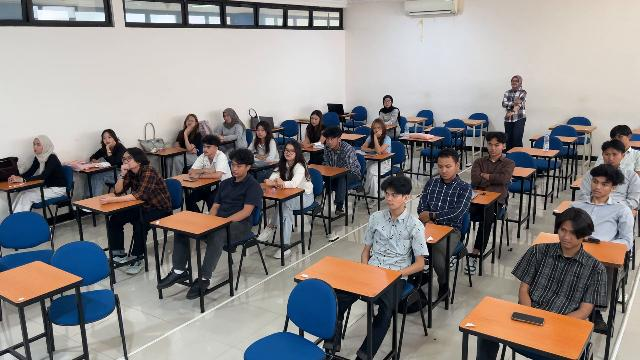fokus: (559, 223, 579, 249), (384, 188, 401, 209), (591, 177, 608, 198), (437, 158, 453, 180), (231, 159, 245, 177), (122, 152, 137, 167), (604, 150, 620, 164), (487, 141, 500, 156), (612, 134, 629, 145), (103, 132, 114, 147), (325, 136, 337, 149), (284, 145, 295, 159), (203, 143, 215, 155), (373, 123, 383, 136), (33, 139, 42, 153), (257, 126, 266, 138), (186, 116, 195, 127), (224, 112, 233, 123), (311, 114, 320, 125)
